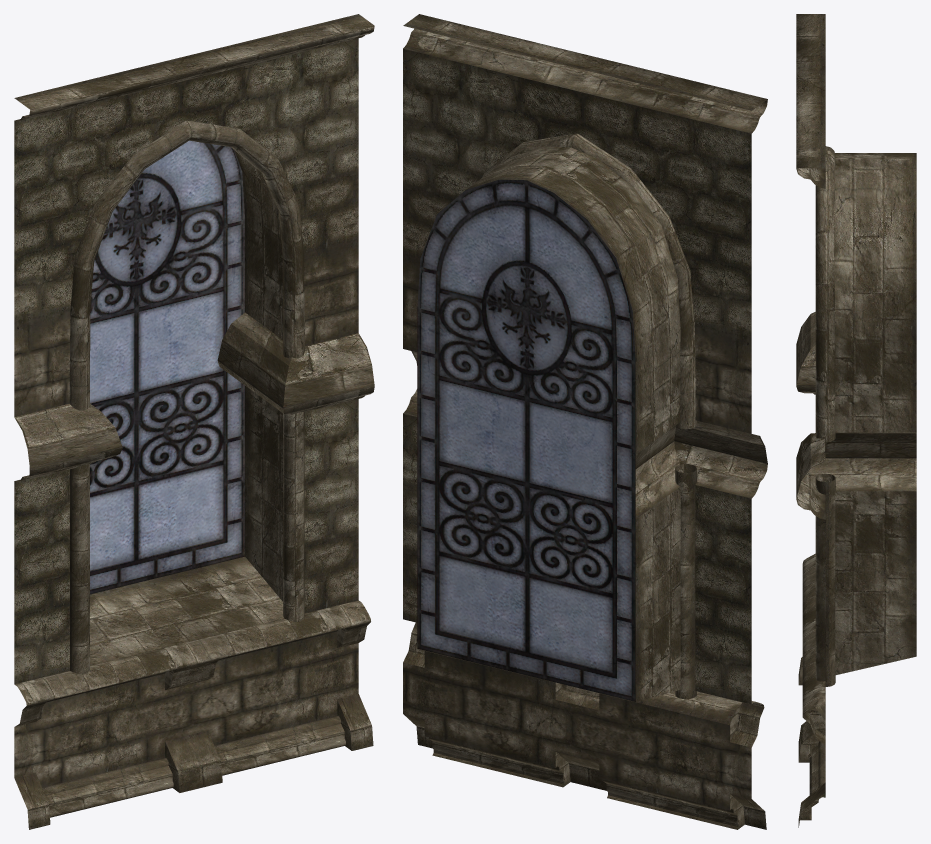
Rendered from window_large_blue_worn_amfp.dae.
3 renders of one model, left to right at view 1: azimuth 30°, elevation 25°; view 2: azimuth 150°, elevation 25°; view 3: azimuth 270°, elevation 25°, orthographic. The views are drawn at different scales.
Visible parts, largest first — view 1: polySurface145, polySurface134, polySurface158, polySurface159, polySurface140, polySurface141, polySurface139, polySurface143, polySurface142, polySurface149; view 2: polySurface134, polySurface145, polySurface158, polySurface159, polySurface139, polySurface140, polySurface141, polySurface142, polySurface147; view 3: polySurface139, polySurface140, polySurface145, polySurface158, polySurface141, polySurface143, polySurface150, polySurface149, polySurface148.
Boxes of the visible parts, x1,y1,x2,y2 form: polySurface145: [14, 14, 374, 470]; polySurface134: [90, 140, 244, 594]; polySurface158: [14, 386, 374, 829]; polySurface159: [14, 631, 358, 787]; polySurface140: [29, 385, 284, 665]; polySurface141: [69, 120, 304, 410]; polySurface139: [234, 150, 282, 339]; polySurface143: [283, 412, 304, 621]; polySurface142: [70, 464, 89, 674]; polySurface149: [217, 312, 291, 408]; polySurface134: [417, 179, 635, 701]; polySurface145: [403, 14, 767, 463]; polySurface158: [403, 389, 767, 829]; polySurface159: [403, 651, 751, 810]; polySurface139: [466, 146, 680, 454]; polySurface140: [635, 487, 680, 701]; polySurface141: [482, 133, 696, 429]; polySurface142: [675, 464, 696, 699]; polySurface147: [635, 441, 680, 518]; polySurface139: [833, 153, 916, 432]; polySurface140: [835, 491, 916, 675]; polySurface145: [796, 14, 825, 497]; polySurface158: [796, 473, 825, 827]; polySurface141: [815, 146, 835, 442]; polySurface143: [815, 473, 835, 686]; polySurface150: [807, 458, 916, 491]; polySurface149: [825, 432, 916, 458]; polySurface148: [796, 345, 815, 386].
Size of the model in its own units: 4 by 8 by 1.32.
